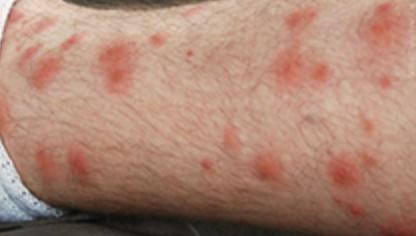Chigger-bites: (358, 1, 405, 54), (94, 40, 132, 94), (321, 150, 364, 193), (26, 142, 63, 190), (273, 5, 321, 38), (268, 48, 306, 86), (63, 144, 93, 182), (250, 152, 283, 186), (341, 193, 373, 228), (305, 55, 334, 88), (140, 23, 172, 52), (38, 56, 64, 88), (12, 15, 56, 33), (360, 106, 380, 142), (387, 215, 416, 236), (222, 120, 240, 153), (14, 45, 41, 66), (61, 30, 83, 52), (380, 72, 400, 94), (182, 6, 202, 20), (200, 155, 213, 174), (184, 45, 196, 64)
